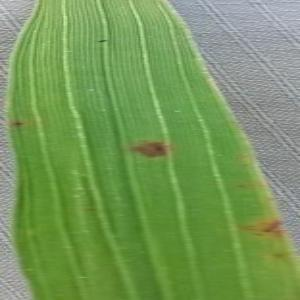Brown_Spot: (123, 133, 174, 166), (242, 215, 288, 241), (261, 218, 287, 238), (91, 34, 115, 48), (270, 248, 290, 264), (9, 117, 29, 131), (233, 179, 250, 193), (242, 223, 259, 233), (254, 232, 265, 239)
